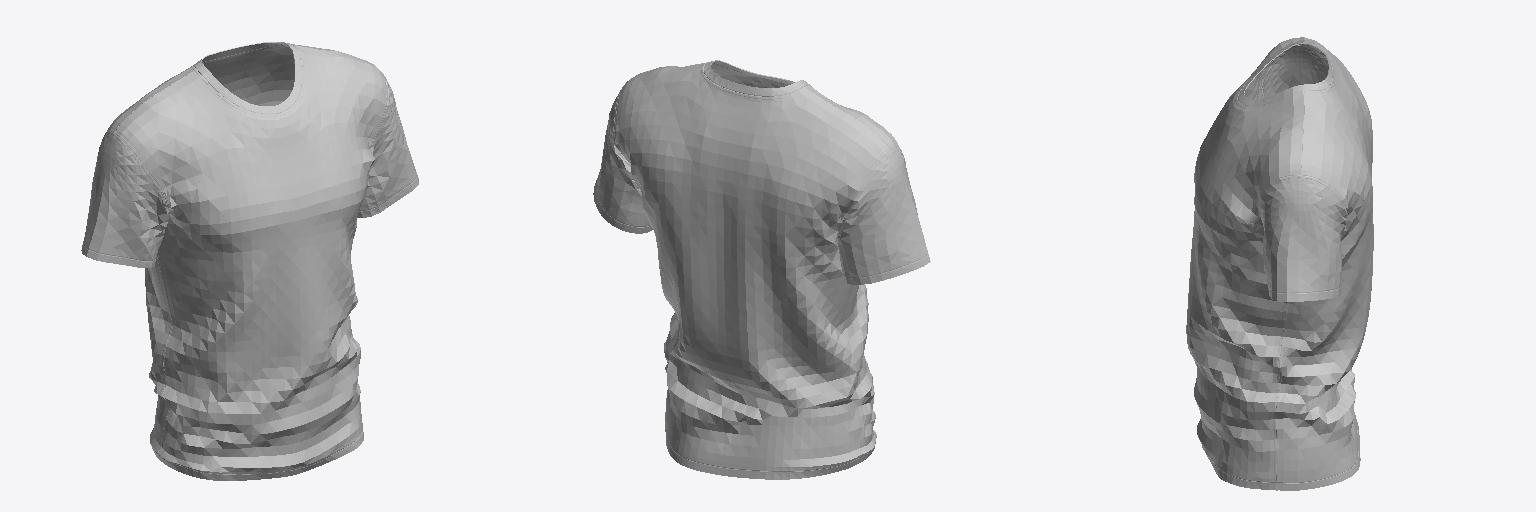
Rendered from straight.obj.
3 renders of one model, left to right at view 1: azimuth 30°, elevation 25°; view 2: azimuth 150°, elevation 25°; view 3: azimuth 270°, elevation 25°, orthographic.
Visible parts, largest first — view 1: T_Shirt_male; view 2: T_Shirt_male; view 3: T_Shirt_male.
Boxes of the visible parts, x1=… form: T_Shirt_male: x1=81, y1=42, x2=418, y2=480; T_Shirt_male: x1=593, y1=60, x2=930, y2=479; T_Shirt_male: x1=1186, y1=37, x2=1373, y2=490.
Bounding box in the file's own units: 55.27 × 61.34 × 26.98.